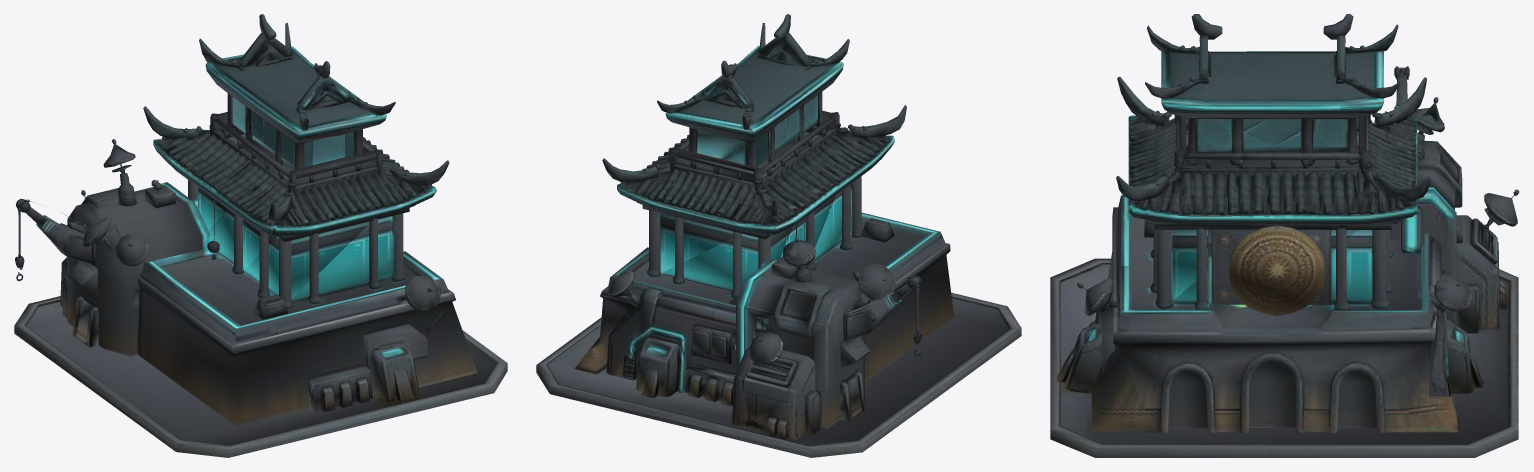
The model's file is command_hub.glb.
3 views of the same model, side by side, from view 1: azimuth 30°, elevation 25°; view 2: azimuth 150°, elevation 25°; view 3: azimuth 270°, elevation 25° (orthographic). The views are drawn at different scales.
Parts seen in each view (by area): view 1: Body, Trim; view 2: Body, Trim; view 3: Body, Trim.
Part boxes in pixels (bbox=[...]): Body: bbox=[14, 14, 507, 457]; Trim: bbox=[36, 46, 442, 354]; Body: bbox=[536, 14, 1021, 457]; Trim: bbox=[617, 45, 939, 362]; Body: bbox=[1050, 14, 1519, 457]; Trim: bbox=[1087, 51, 1463, 375].
Size of the model in its own units: 20 by 16.48 by 19.22.
2 materials, 2 textured.
